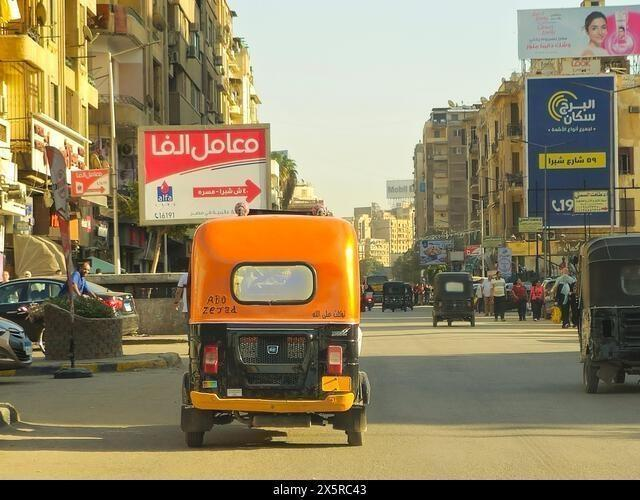keke: (4, 5, 358, 460), (180, 210, 376, 450), (577, 231, 638, 404)
